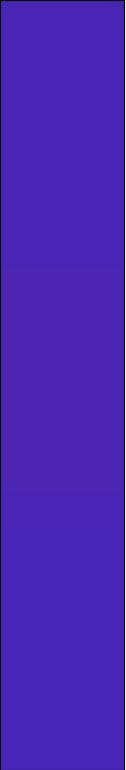safe: (9, 6, 119, 759)
